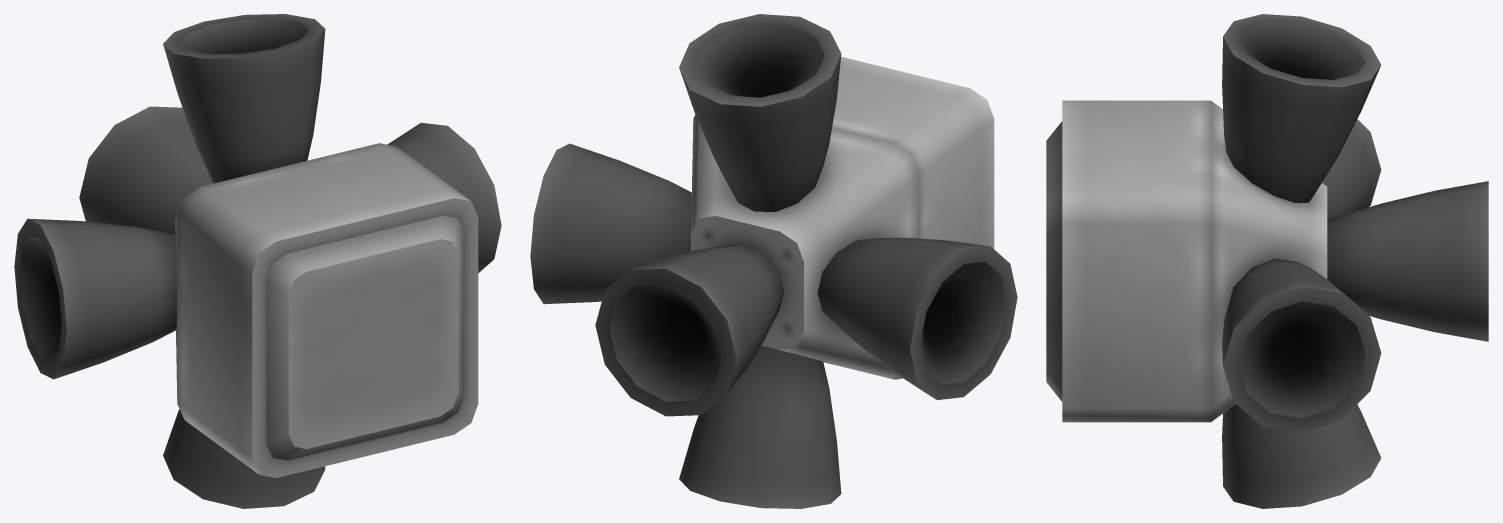
The model's file is Tantares_RCS_1_E.obj.
3 renders of one model, left to right at view 1: azimuth 30°, elevation 25°; view 2: azimuth 150°, elevation 25°; view 3: azimuth 270°, elevation 25°, orthographic.
Parts seen in each view (by area): view 1: Tantares_RCS_1_E; view 2: Tantares_RCS_1_E; view 3: Tantares_RCS_1_E.
Part boxes in pixels (x1,y1,x2,y2): Tantares_RCS_1_E: (14,14,501,508); Tantares_RCS_1_E: (530,14,1017,508); Tantares_RCS_1_E: (1046,14,1488,508).
Size of the model in its own units: 0.1923 by 0.1923 by 0.1712.
